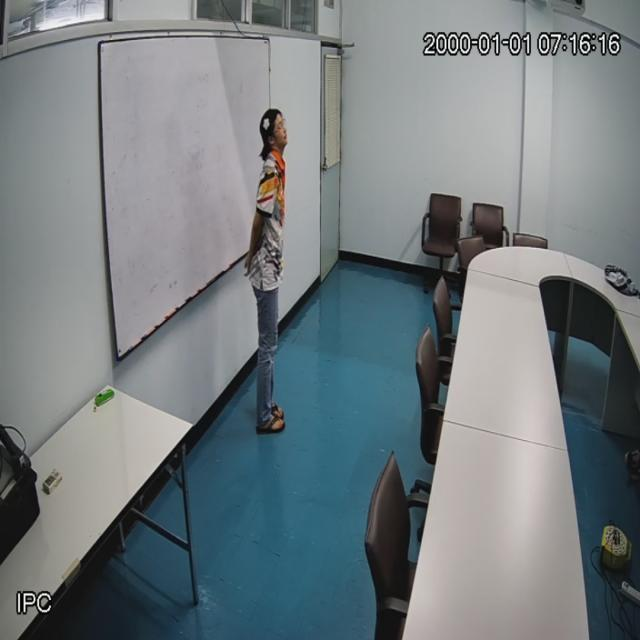normal: (244, 108, 289, 434)
